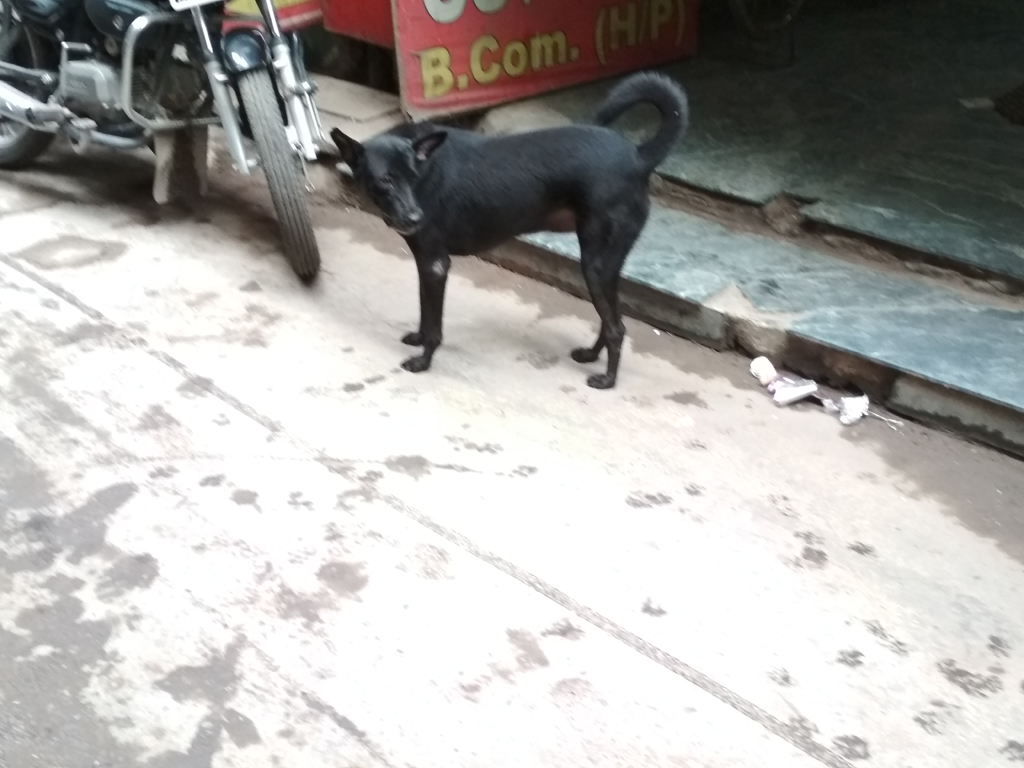dog: (331, 70, 692, 390)
